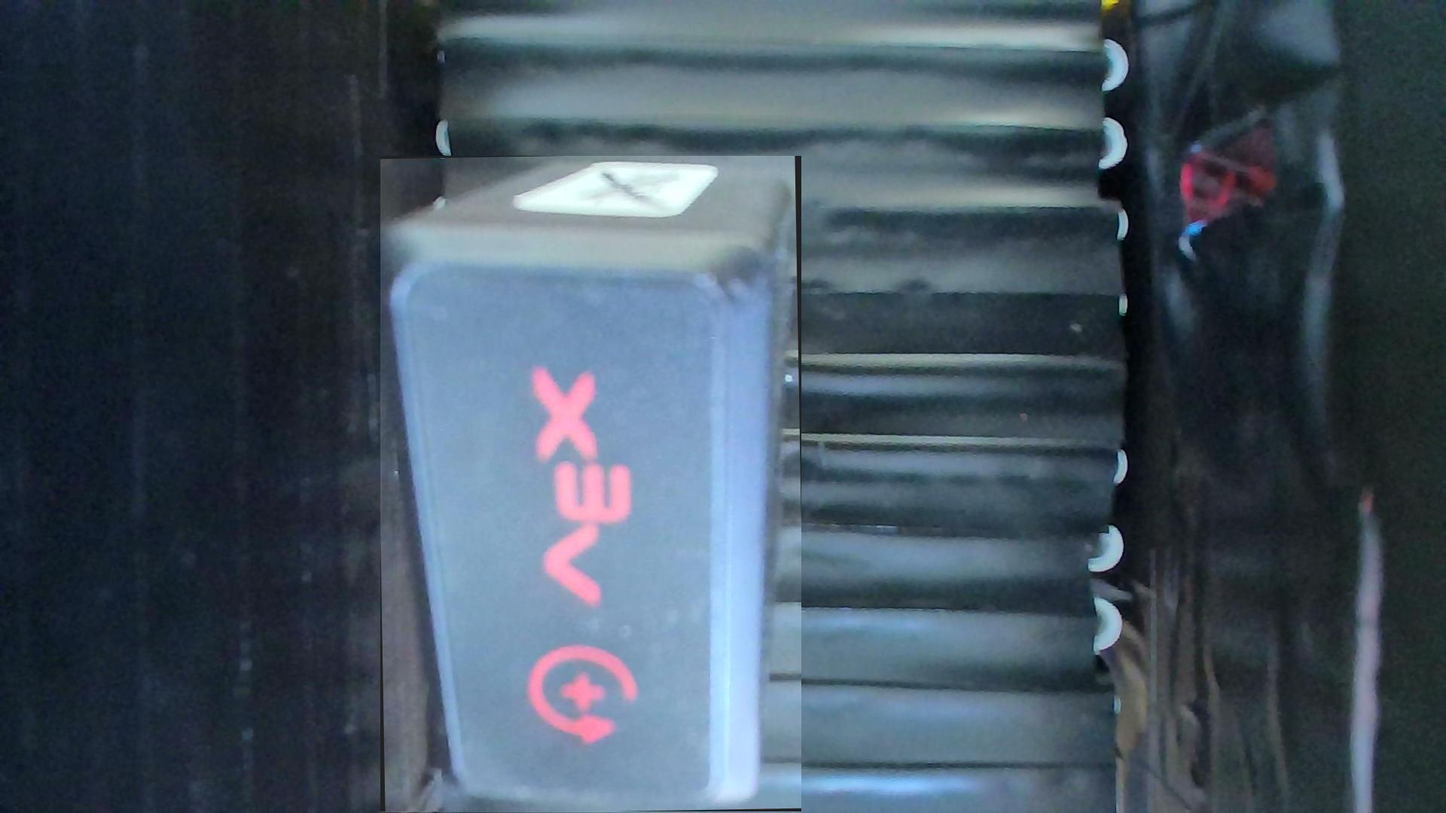motor: (380, 156, 801, 813)
